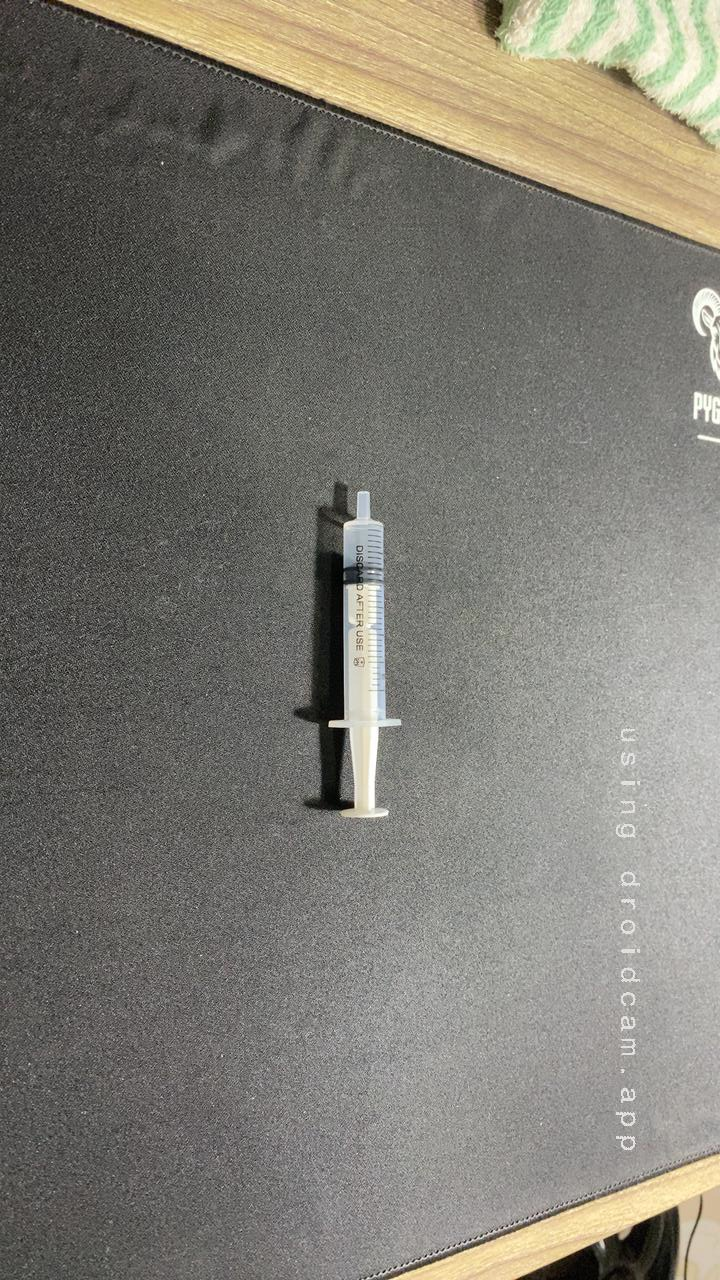syringe: (276, 472, 429, 830)
